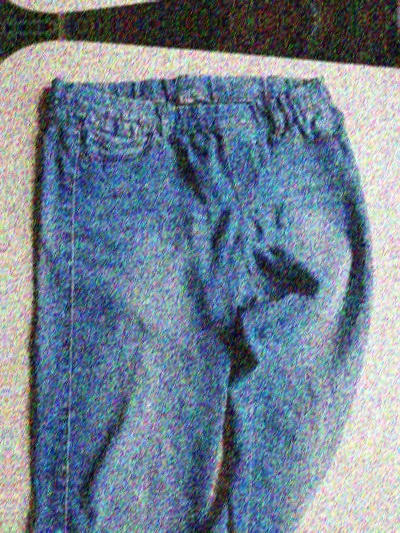Pants: (15, 58, 398, 533)
